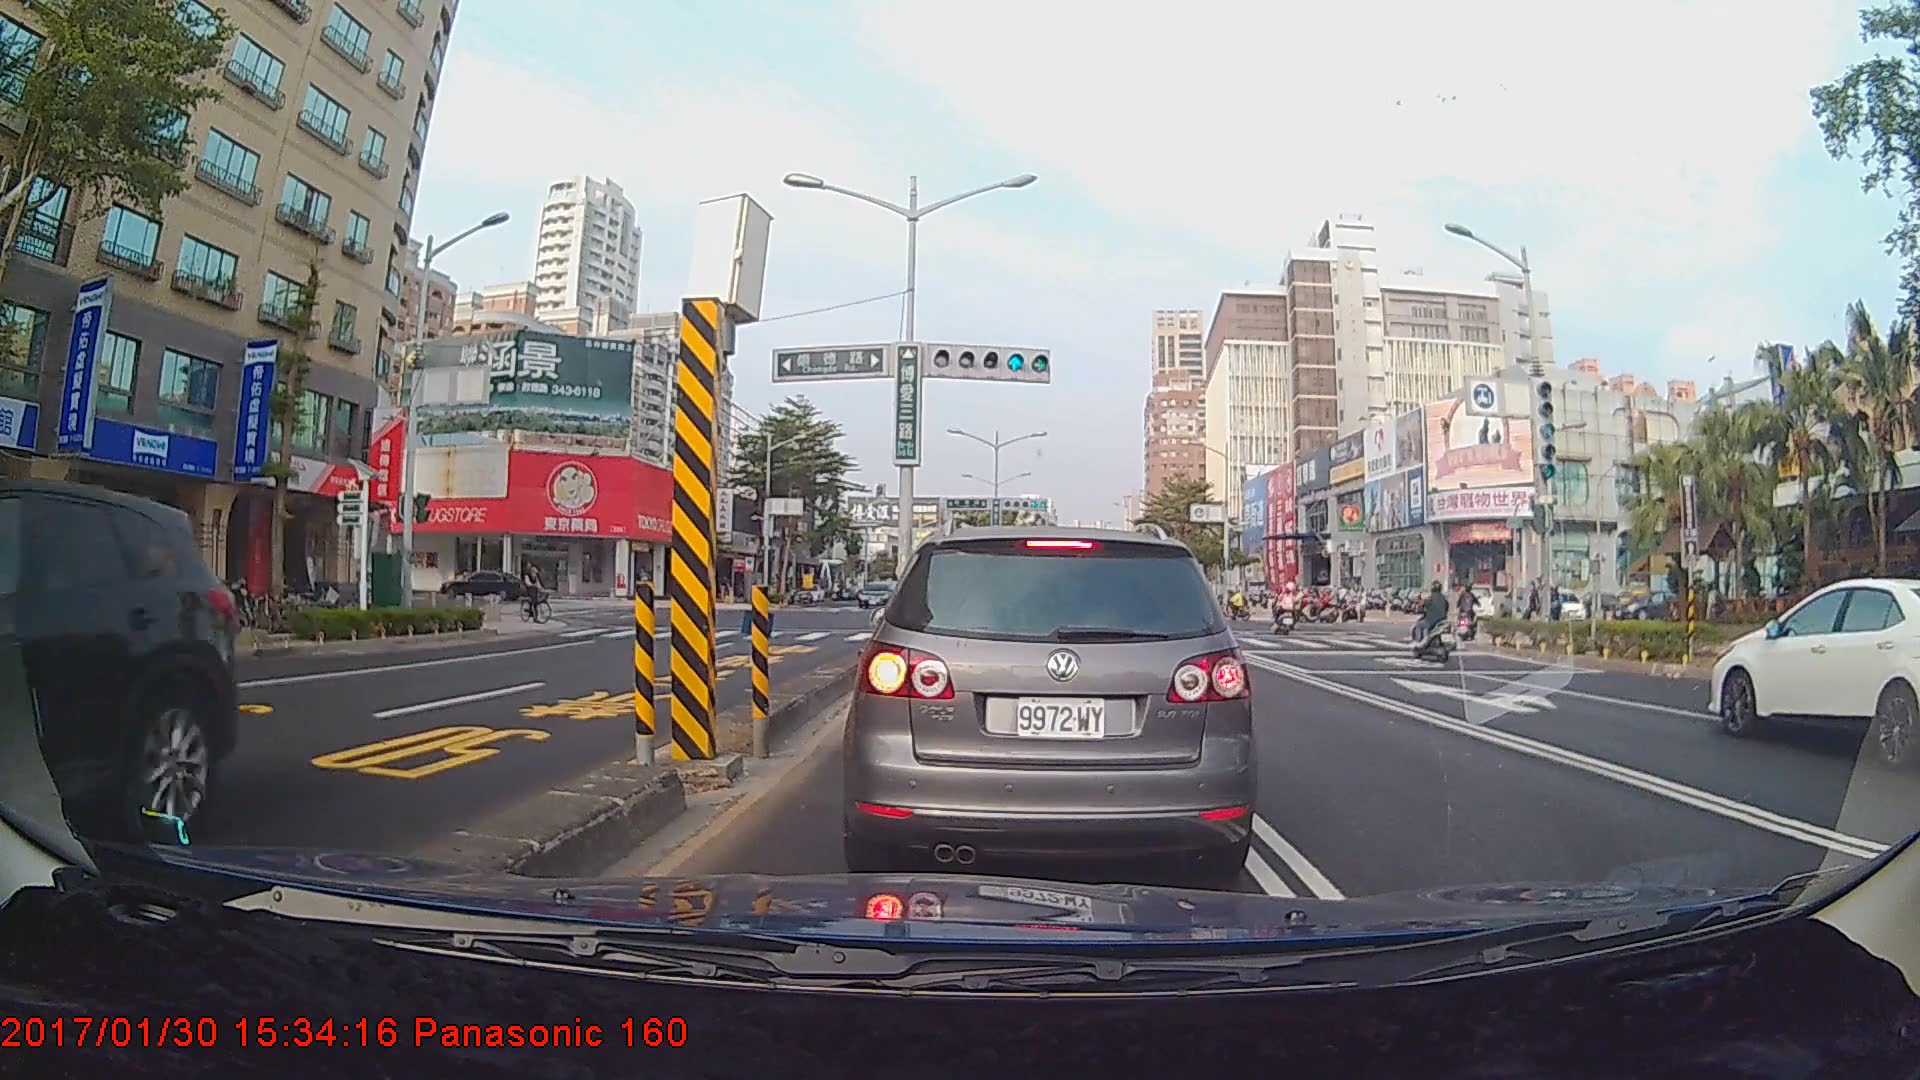pedestrian: (1705, 582, 1726, 642)
rider: (1411, 580, 1466, 664), (518, 559, 561, 629), (1449, 582, 1479, 646), (1273, 580, 1303, 640)
vehicle: (852, 522, 1247, 883), (0, 476, 232, 850), (1710, 575, 1920, 756), (438, 568, 530, 601), (856, 581, 895, 608)
